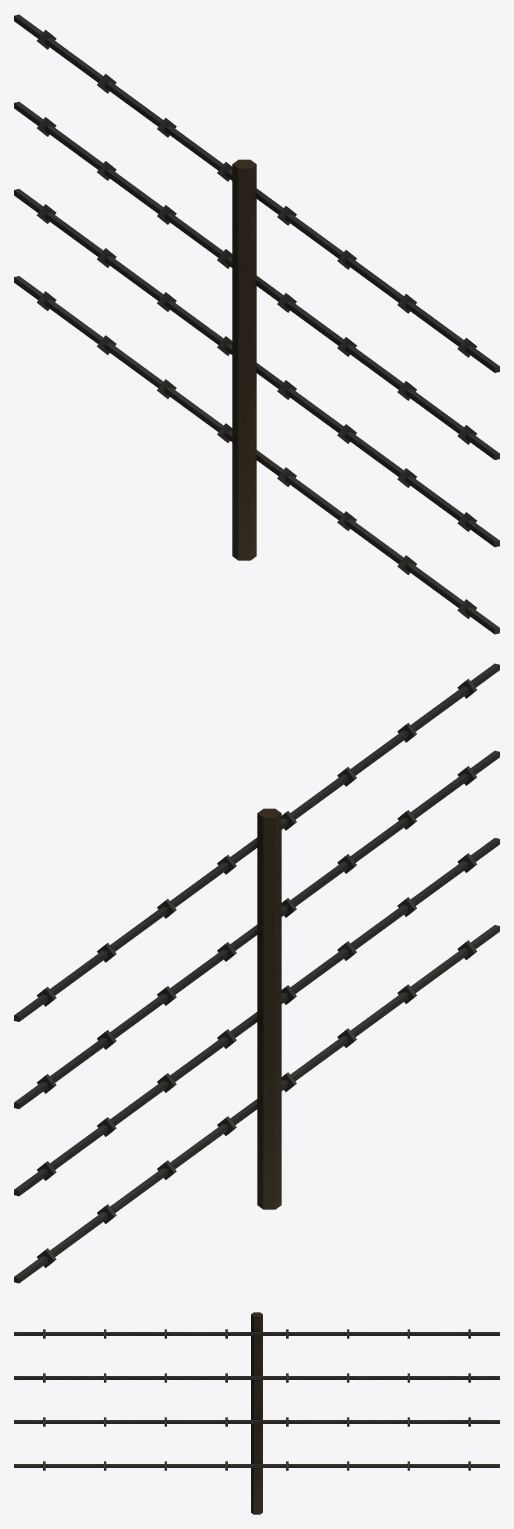
The model's file is fenc-segment.glb.
3 views of the same model, one above another, from view 1: azimuth 30°, elevation 25°; view 2: azimuth 150°, elevation 25°; view 3: azimuth 270°, elevation 25° (orthographic). The views are drawn at different scales.
Parts seen in each view (by area): view 1: hull; view 2: hull; view 3: hull.
Boxes of the visible parts, left/top/right/bottom form: hull: left=14, top=14, right=499, bottom=634; hull: left=14, top=663, right=499, bottom=1283; hull: left=14, top=1312, right=499, bottom=1514.
Size of the model in its own units: 0.1457 by 1.8 by 4.
Materials: 1 (1 with a texture image).
